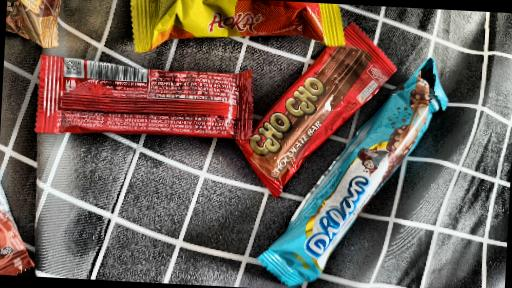chocho: (27, 48, 270, 151), (251, 22, 406, 183)
dilan: (284, 50, 466, 288)
